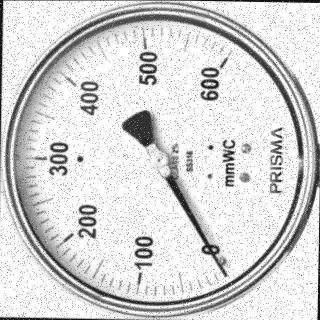gauge: (0, 0, 320, 320), (206, 48, 238, 86), (205, 246, 231, 274), (145, 150, 169, 170), (218, 266, 232, 280)
